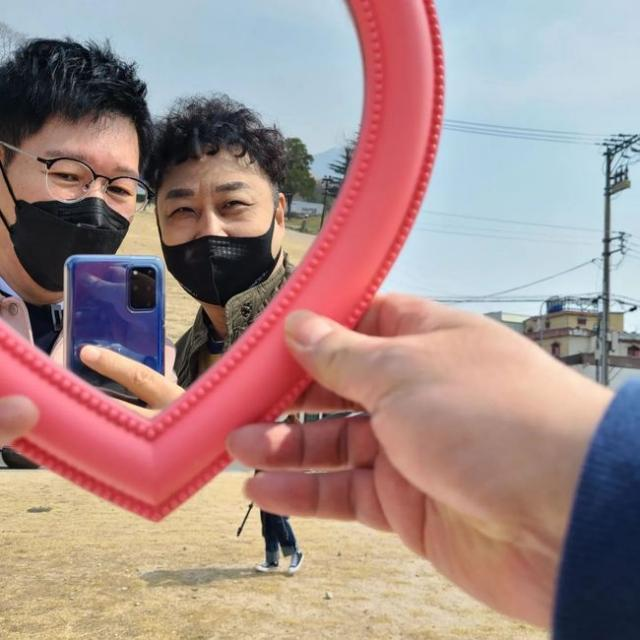phone: (64, 254, 165, 391)
